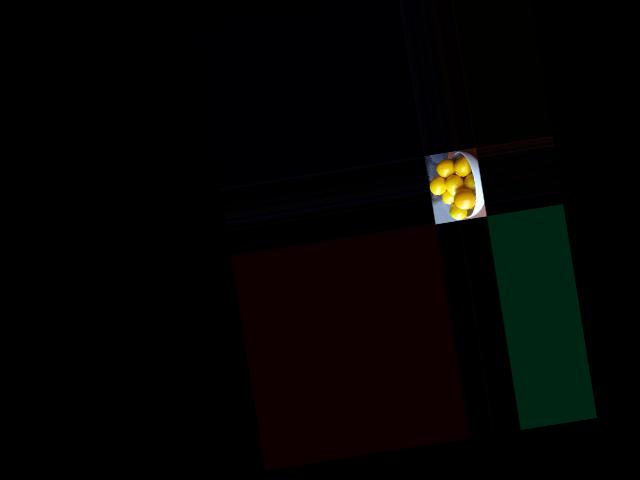lemon: (463, 174, 479, 189)
